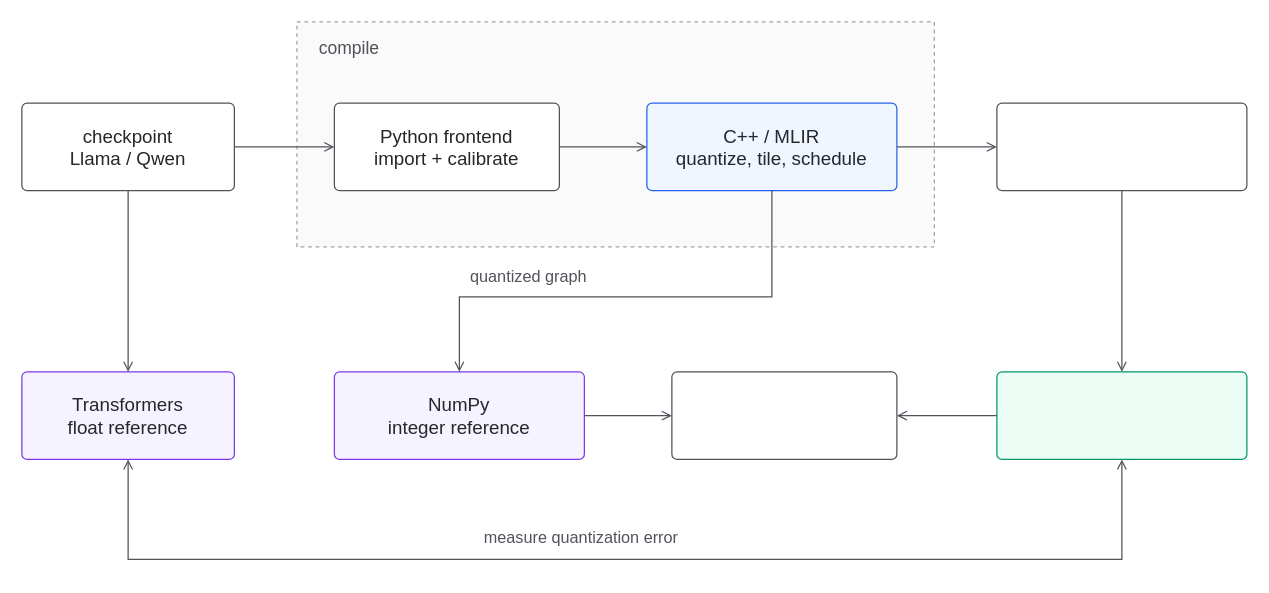
This 1269x593 diagram has some shape labels left out. Each missing label, with the centre of its shape:
".llbin instructions + weights" belongs at pixel 1121 146.
"compare outputs integer agreement" belongs at pixel 784 415.
"execute ISA simulator / RTL" belongs at pixel 1121 415.
